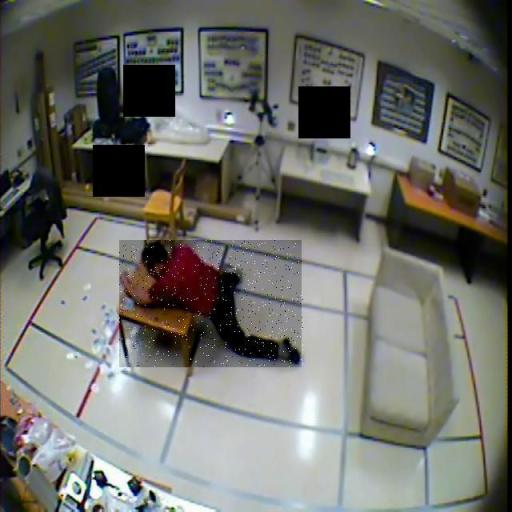Fall: (120, 240, 304, 367)
